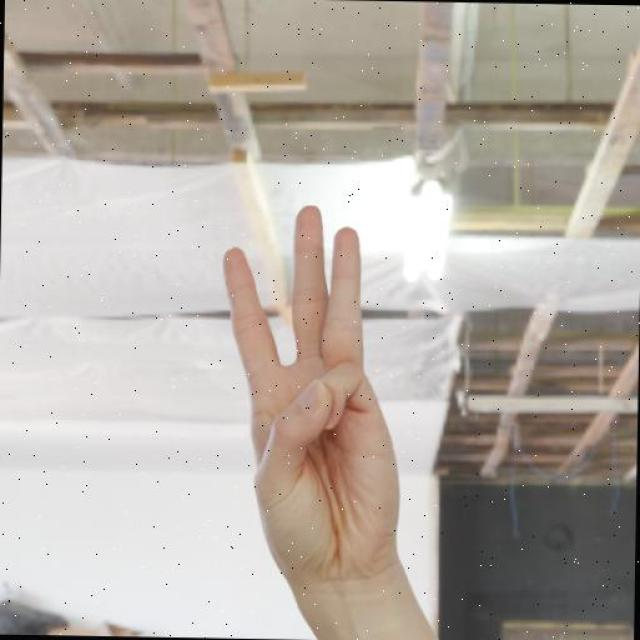W: (213, 198, 414, 621)
